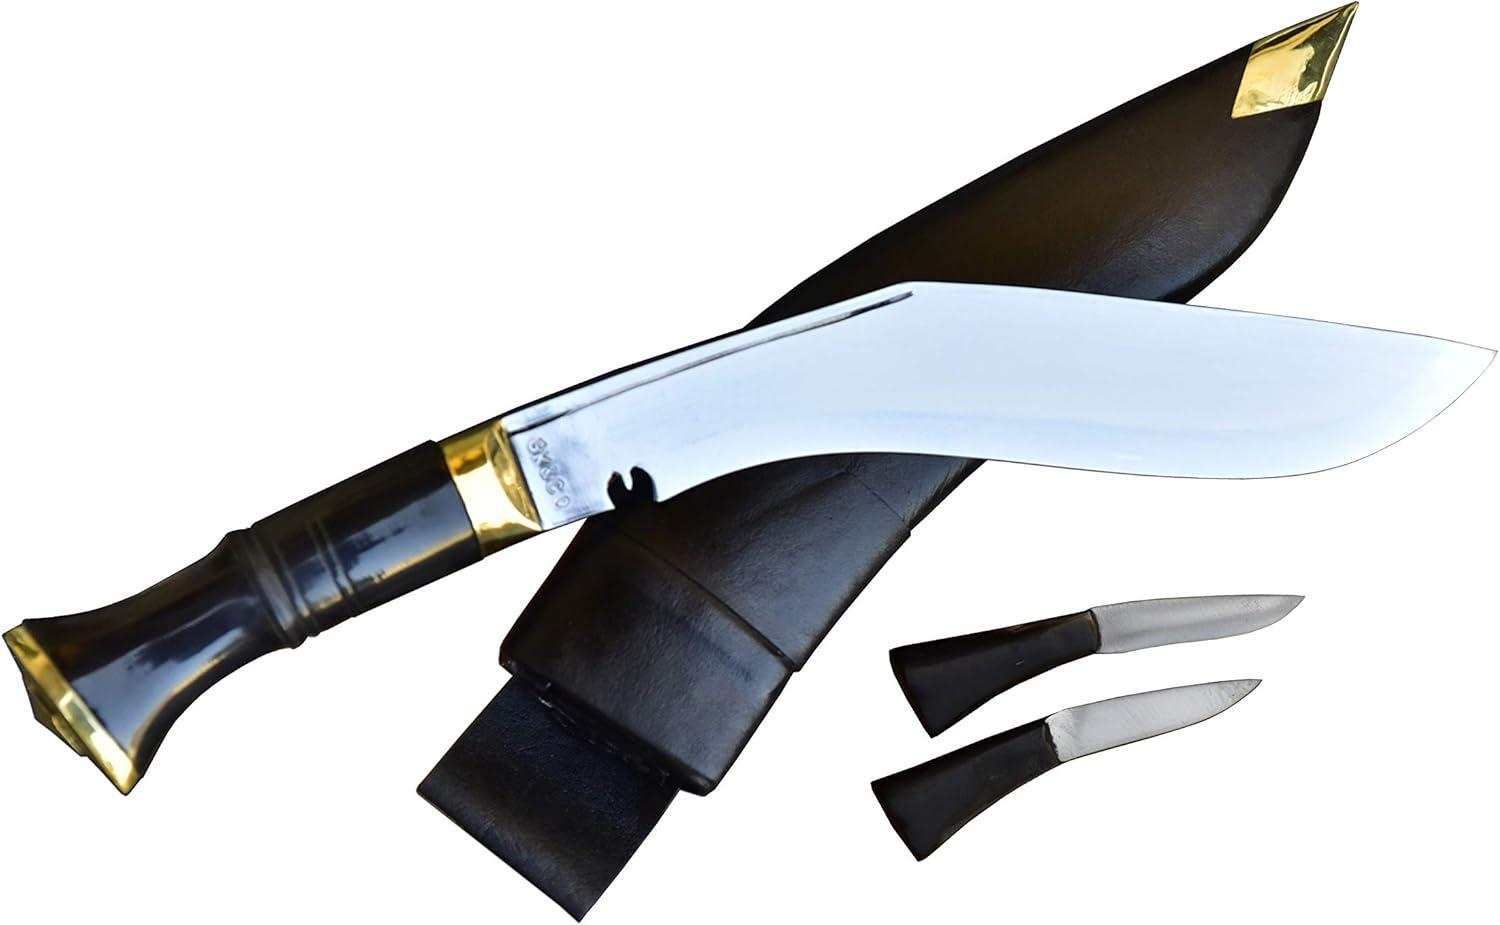faca: (873, 678, 1260, 859), (890, 595, 1302, 736)
facao: (7, 282, 1492, 792)
